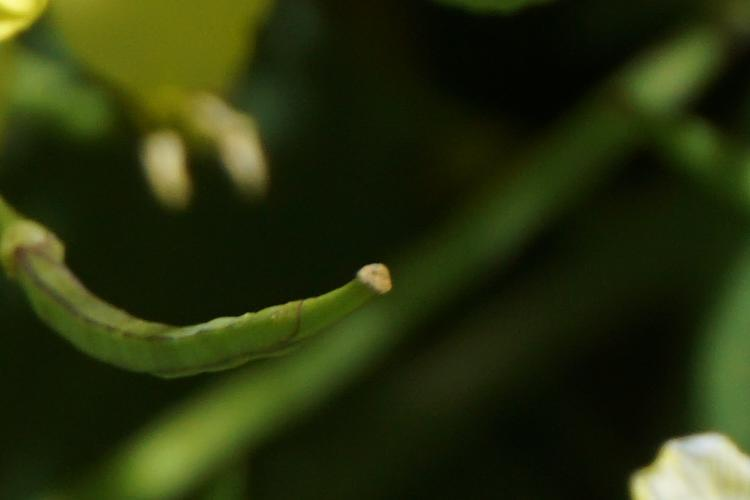pod: (43, 242, 391, 373)
